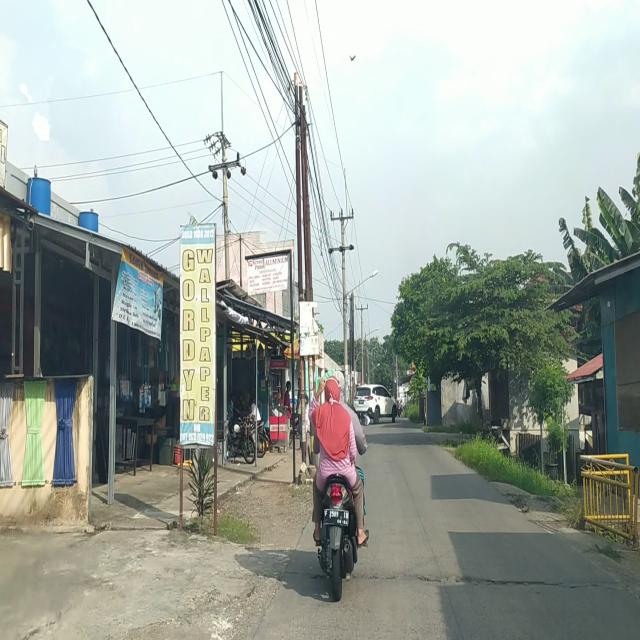Sewer Cover: (286, 569, 612, 590)
